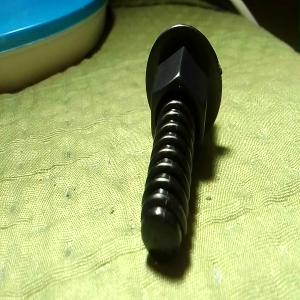parafuso: (140, 23, 222, 260)
